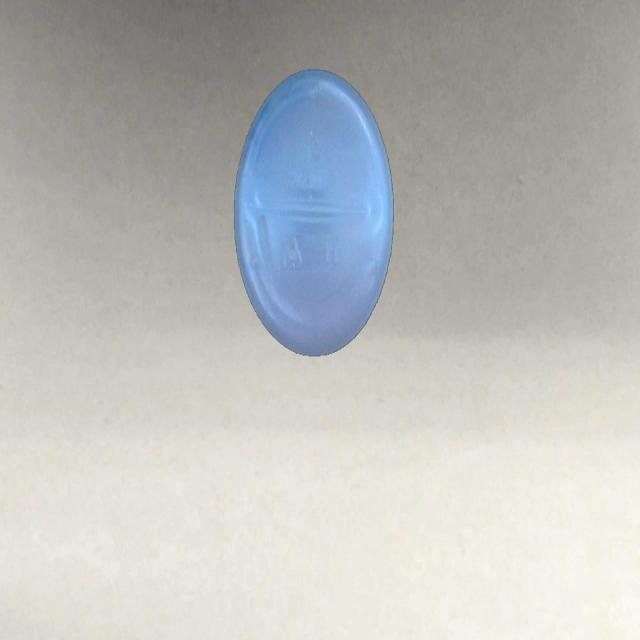bottle: (233, 67, 395, 356)
